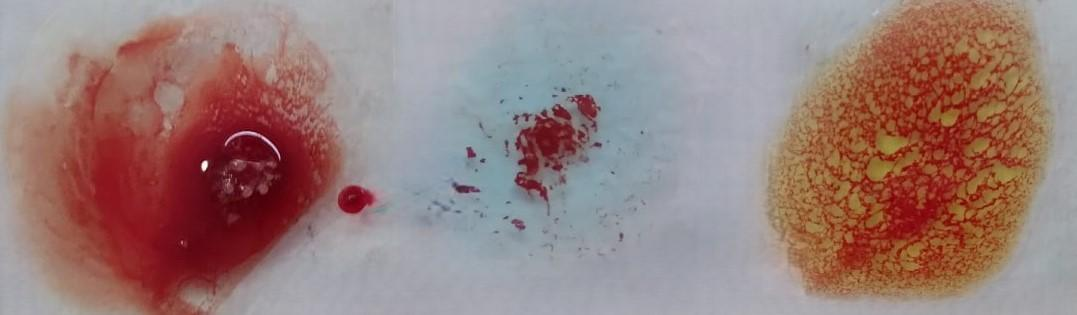A: (458, 17, 676, 273)
B: (797, 7, 1042, 310)
D: (61, 8, 334, 315)
